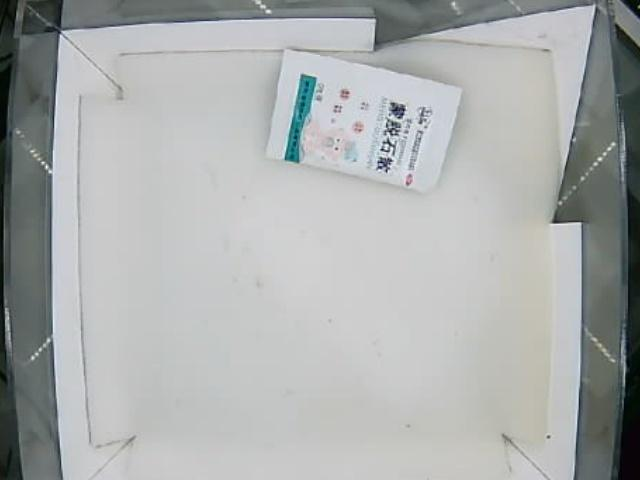Medicine: (261, 47, 465, 196)
